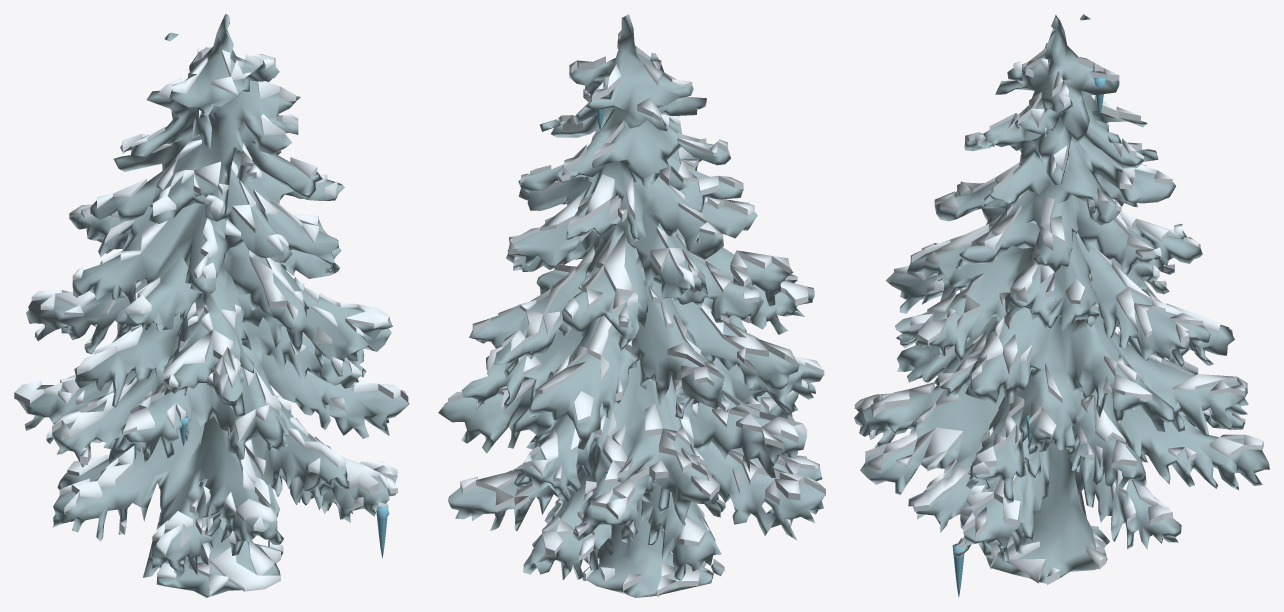
File: FirstRoom_SnowPine.fbx
3 renders of one model, left to right at view 1: azimuth 30°, elevation 25°; view 2: azimuth 150°, elevation 25°; view 3: azimuth 270°, elevation 25°, orthographic. The views are drawn at different scales.
Parts seen in each view (by area): view 1: FirstRoom_SnowPine_LOD0; view 2: FirstRoom_SnowPine_LOD0; view 3: FirstRoom_SnowPine_LOD0.
Boxes of the visible parts, left/top/right/bottom form: FirstRoom_SnowPine_LOD0: left=14, top=14, right=409, bottom=597; FirstRoom_SnowPine_LOD0: left=438, top=14, right=825, bottom=597; FirstRoom_SnowPine_LOD0: left=854, top=14, right=1269, bottom=597.
Size of what is drawn, in the model's own units: 3.7 by 6 by 4.13.
